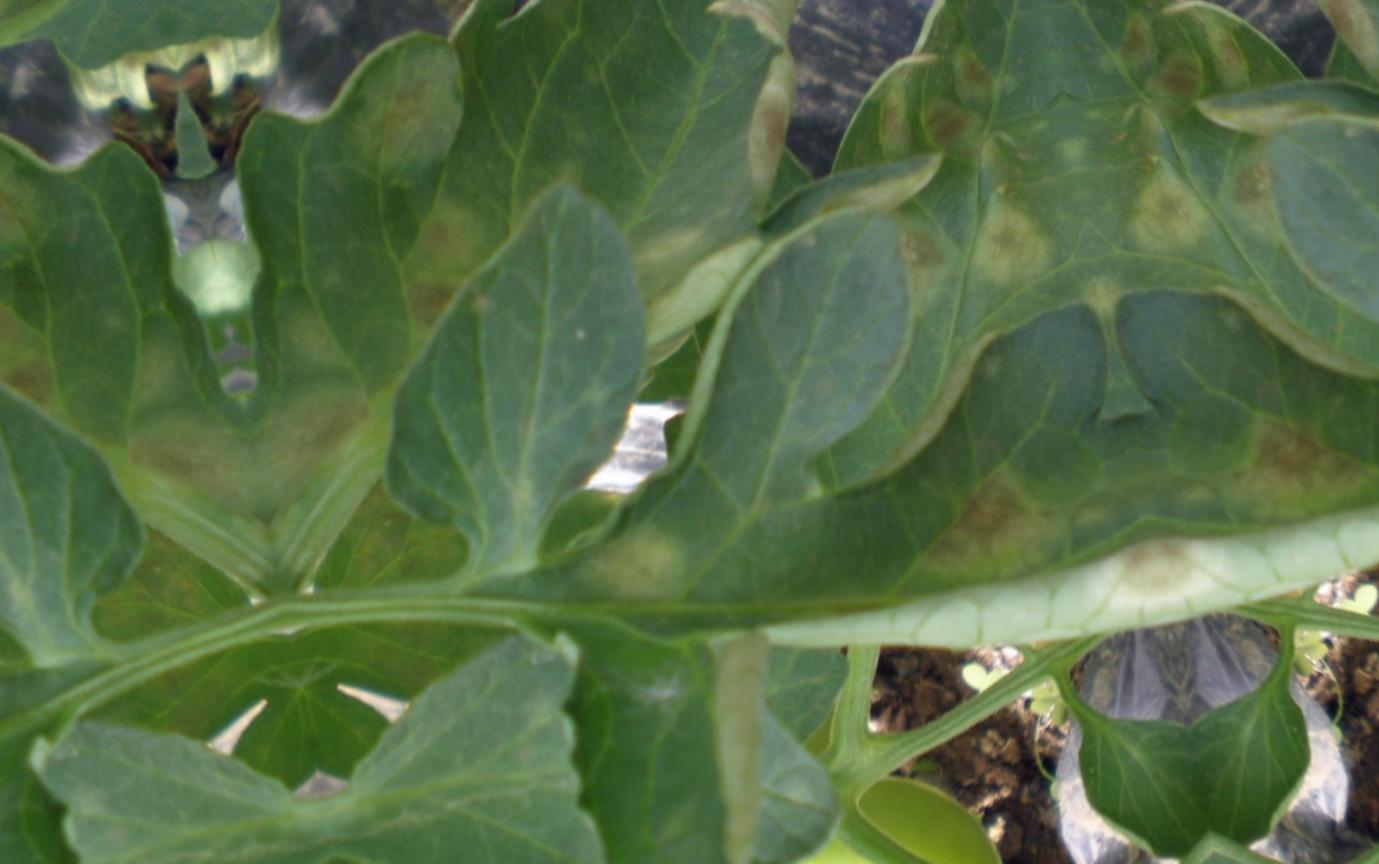Tomato mold leaf: (130, 0, 998, 648), (596, 332, 1171, 741), (641, 0, 1124, 477), (298, 616, 656, 864), (130, 0, 737, 42), (943, 797, 1249, 864)
